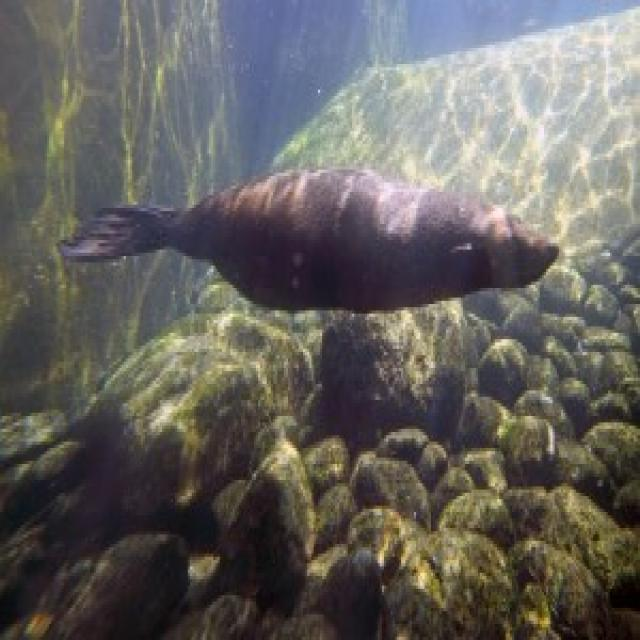Seal: (57, 161, 564, 313)
